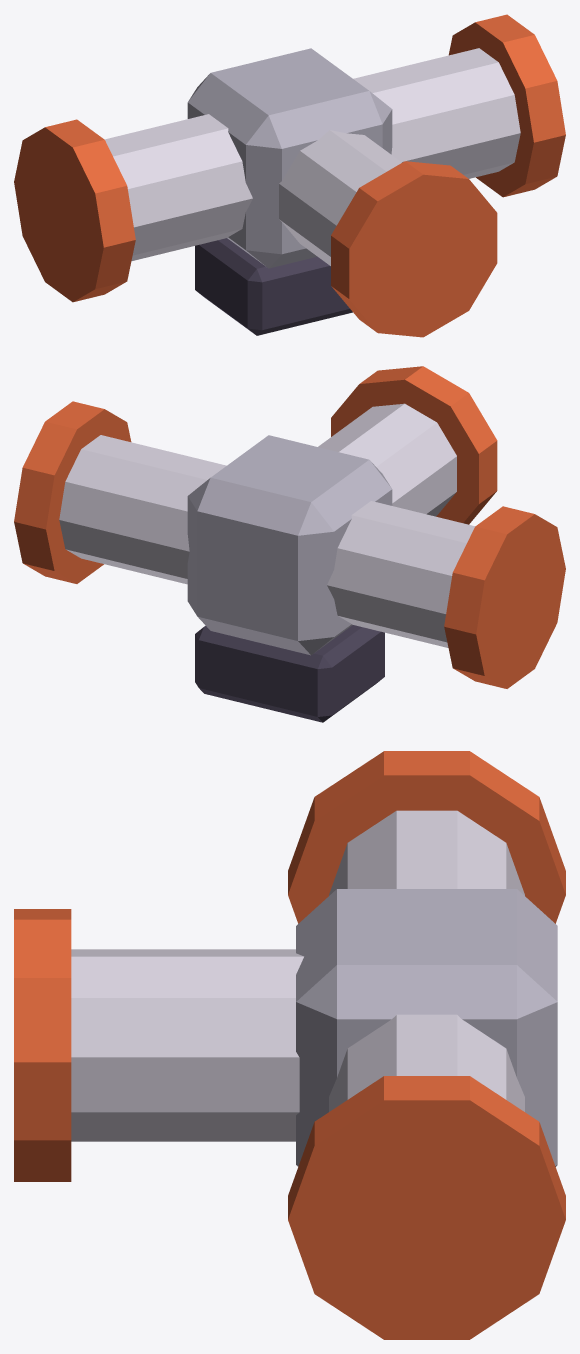
Rendered from MOONSHIFT_AIR_Pipe_T.glb.
The picture shows the model from 3 angles, top to bottom: view 1: azimuth 30°, elevation 25°; view 2: azimuth 150°, elevation 25°; view 3: azimuth 270°, elevation 25°; orthographic projection. The views are drawn at different scales.
Visible parts, largest first — view 1: PipeT_Main, PipeT_Flange2, PipeT_Joint, PipeT_Flange0, PipeT_Flange1, PipeT_Support, PipeT_Branch; view 2: PipeT_Main, PipeT_Joint, PipeT_Flange0, PipeT_Support, PipeT_Flange1, PipeT_Flange2, PipeT_Branch; view 3: PipeT_Flange1, PipeT_Branch, PipeT_Joint, PipeT_Main, PipeT_Flange0, PipeT_Flange2.
Boxes of the visible parts, x1,y1,x2,y2 form: PipeT_Main: (104,48,520,261); PipeT_Flange2: (331,161,497,337); PipeT_Joint: (187,48,392,268); PipeT_Flange0: (14,119,135,302); PipeT_Flange1: (448,14,565,197); PipeT_Support: (195,238,352,335); PipeT_Branch: (279,130,401,265); PipeT_Main: (59,435,474,647); PipeT_Joint: (187,435,392,655); PipeT_Flange0: (444,506,565,688); PipeT_Support: (195,625,384,722); PipeT_Flange1: (14,401,131,583); PipeT_Flange2: (331,366,497,524); PipeT_Branch: (318,403,456,516); PipeT_Flange1: (288,1076,565,1339); PipeT_Branch: (71,949,303,1141); PipeT_Joint: (296,889,557,1166); PipeT_Main: (329,810,524,1111); PipeT_Flange0: (288,751,565,923); PipeT_Flange2: (14,909,71,1181).
Bounding box in the file's own units: 1.01 × 0.47 × 0.675.
